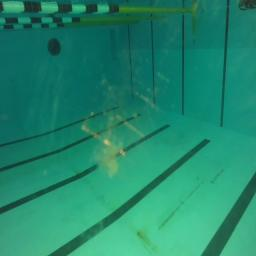Full: (237, 1, 256, 12)
